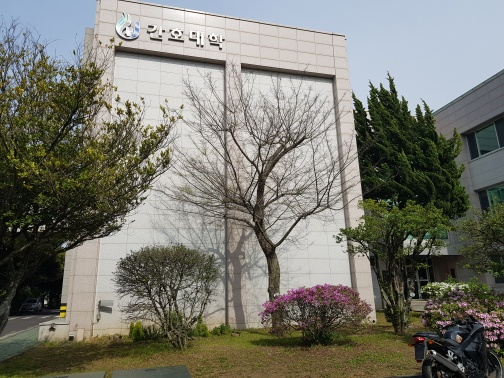College of Nursing: (87, 6, 482, 296), (107, 10, 231, 56)
